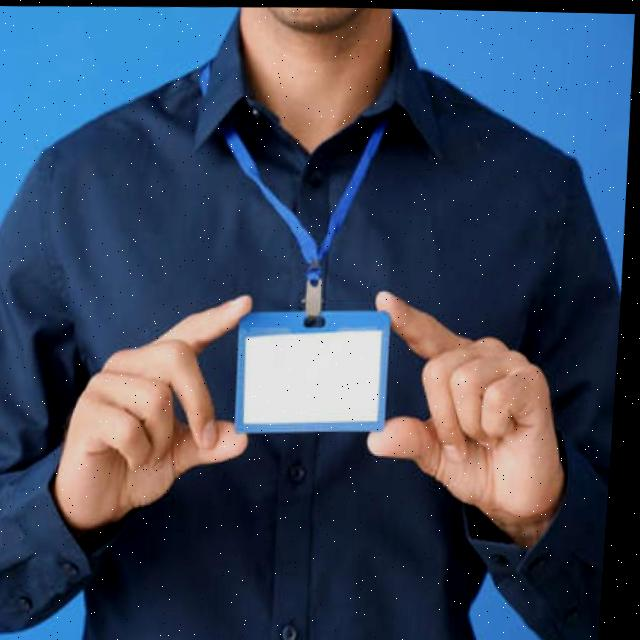id_card: (184, 51, 423, 439)
